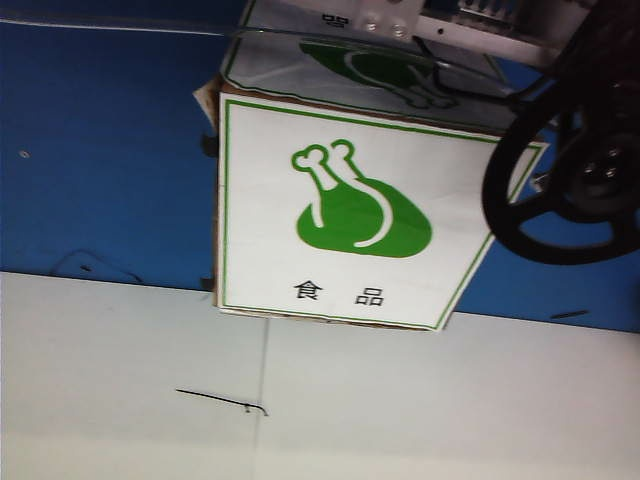Cube_food: (284, 133, 439, 315)
